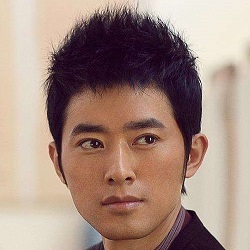unmask: (48, 84, 186, 241)
